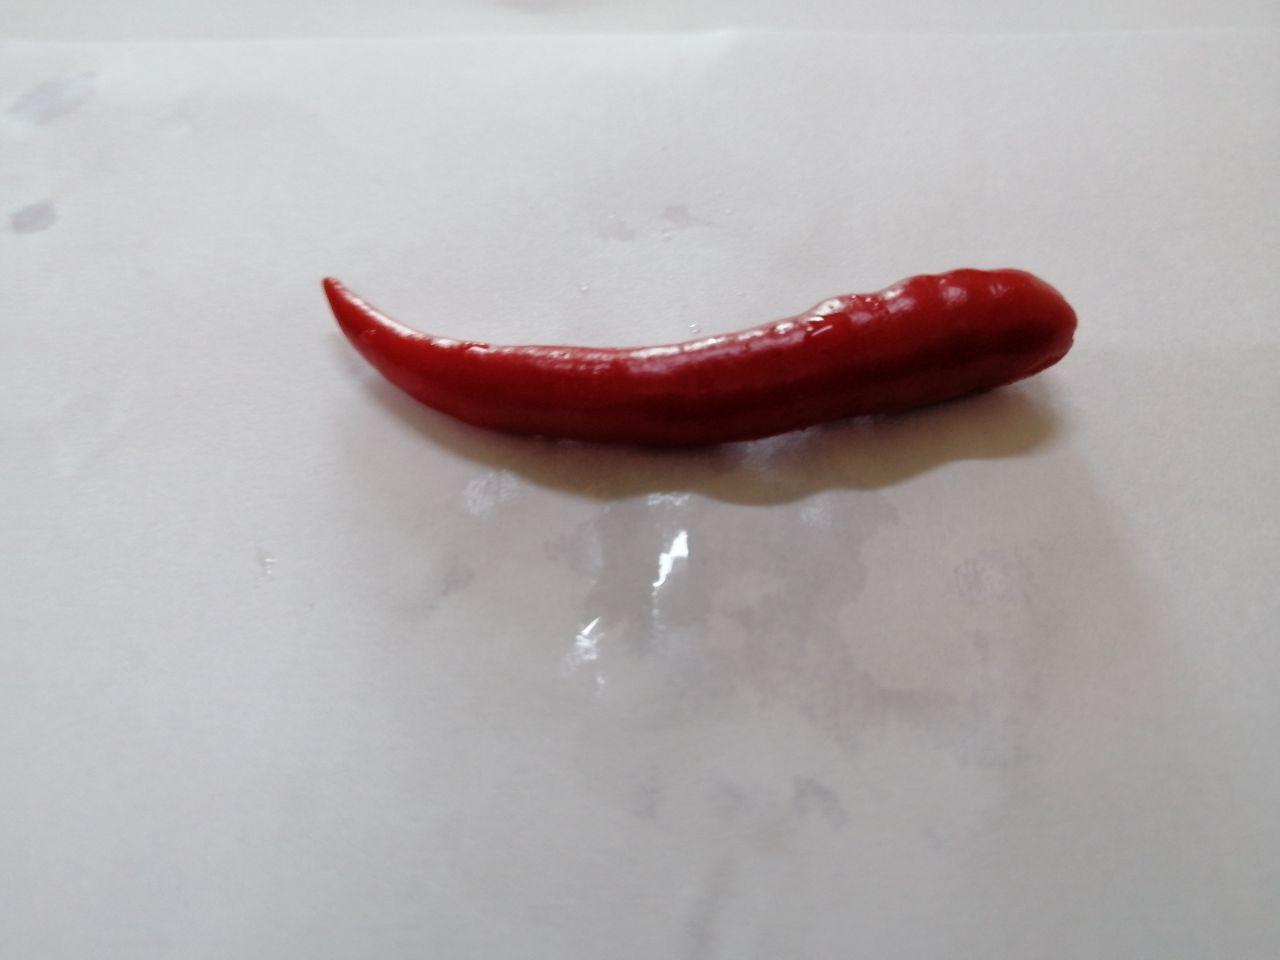lada merah: (285, 233, 1121, 484)
